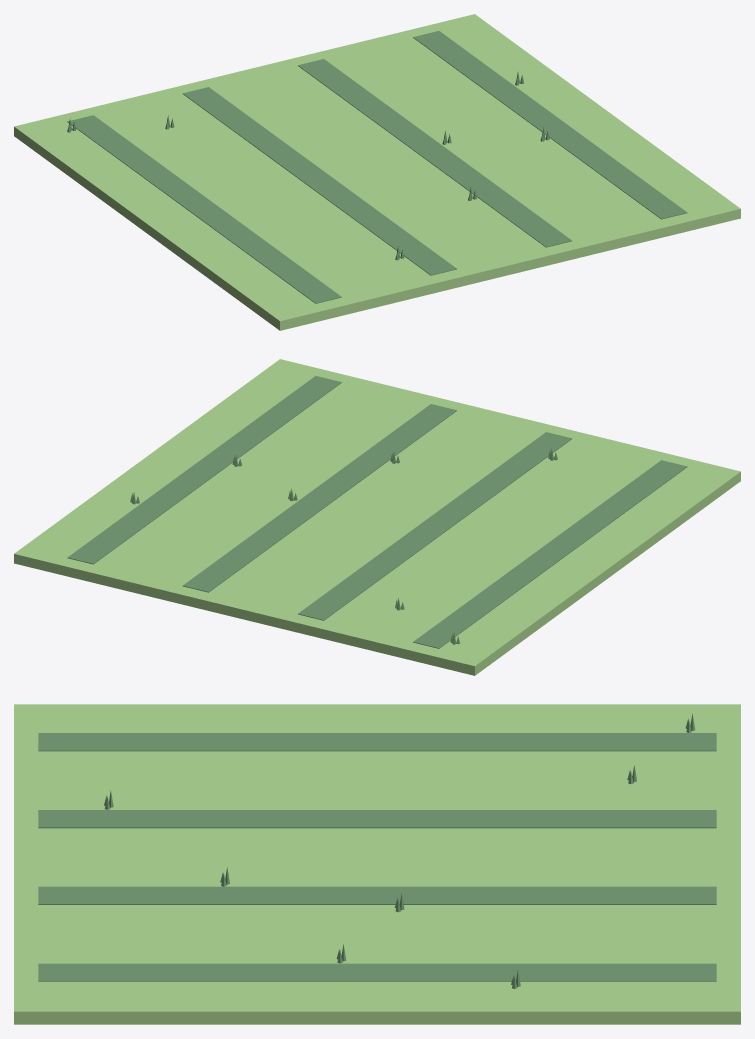
Rendered from golf-course-and-clubhouse-fairway-ground-tile-fba3f141__33463.glb.
The picture shows the model from 3 angles, top to bottom: view 1: azimuth 30°, elevation 25°; view 2: azimuth 150°, elevation 25°; view 3: azimuth 270°, elevation 25°; orthographic projection. The views are drawn at different scales.
Visible parts, largest first — view 1: fairway-ground-tile; view 2: fairway-ground-tile; view 3: fairway-ground-tile.
Boxes of the visible parts, left/top/right/bottom form: fairway-ground-tile: left=14, top=14, right=740, bottom=330; fairway-ground-tile: left=14, top=359, right=740, bottom=675; fairway-ground-tile: left=14, top=704, right=740, bottom=1024.
Size of the model in its own units: 6 by 0.274 by 6.
